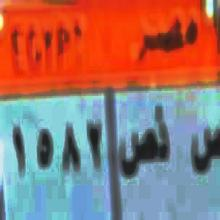1: (10, 119, 28, 187)
2: (86, 118, 104, 176)
5: (35, 124, 54, 180)
8: (60, 124, 80, 181)
saad: (119, 124, 154, 182), (189, 122, 220, 180)
zaal: (155, 104, 172, 166)
